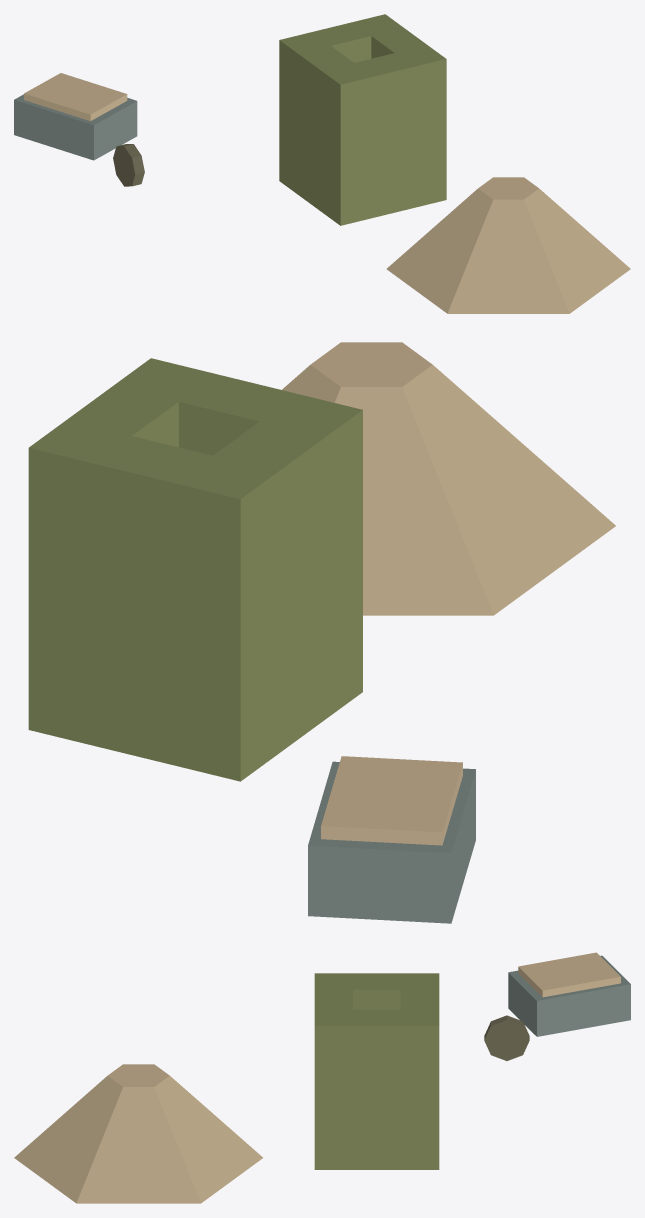
The model's file is SM_ObraHescoAbierto_v1_8m_LOD1.fbx.
3 renders of one model, top to bottom at view 1: azimuth 30°, elevation 25°; view 2: azimuth 150°, elevation 25°; view 3: azimuth 270°, elevation 25°, orthographic. The views are drawn at different scales.
Visible parts, largest first — view 1: SM_obra_curso_v22_LOD1; view 2: SM_obra_curso_v22_LOD1; view 3: SM_obra_curso_v22_LOD1.
Part boxes in pixels (left/top/right/bottom): SM_obra_curso_v22_LOD1: left=14, top=14, right=630, bottom=313; SM_obra_curso_v22_LOD1: left=28, top=342, right=615, bottom=923; SM_obra_curso_v22_LOD1: left=14, top=952, right=630, bottom=1203.
Bounding box in the file's own units: 3.73 × 1.4 × 5.44.
